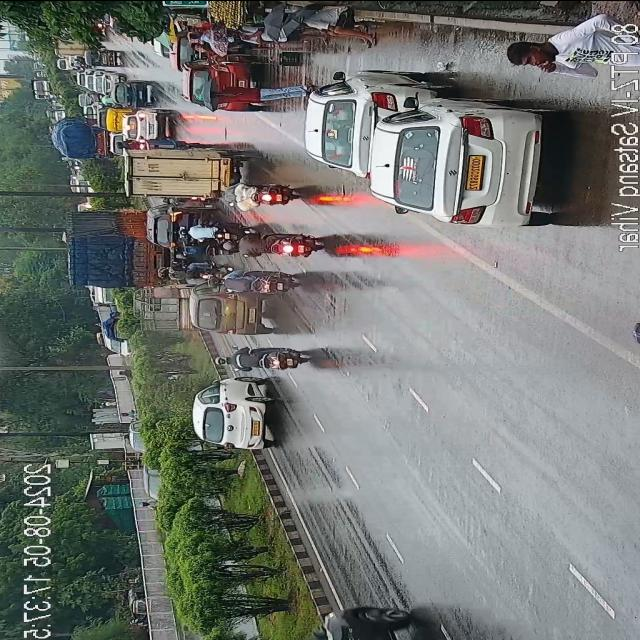2-wheelers: (214, 346, 308, 380), (221, 229, 325, 259), (202, 268, 302, 296), (207, 182, 301, 207), (179, 222, 250, 242), (155, 262, 220, 280)
auto: (82, 50, 120, 70), (106, 109, 132, 137)
car: (372, 96, 546, 226), (304, 74, 412, 170), (190, 377, 272, 452), (178, 52, 261, 114), (185, 272, 263, 336), (142, 196, 216, 256), (127, 110, 173, 144), (110, 78, 154, 109), (85, 70, 123, 95)
pedestrian: (504, 14, 608, 80), (264, 2, 382, 48), (195, 80, 308, 110), (190, 28, 248, 52)
truck: (59, 206, 172, 286), (113, 138, 250, 202), (281, 600, 438, 640), (48, 118, 110, 160)
